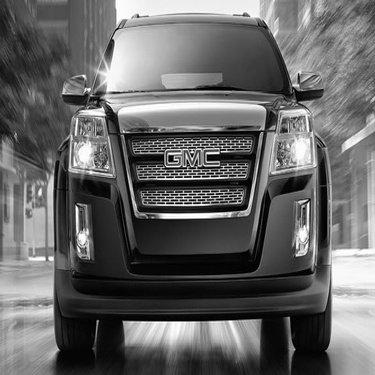car: (40, 5, 346, 357)
